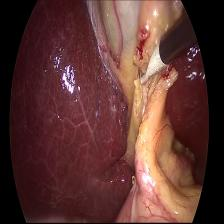Hook: (134, 36, 166, 87)
